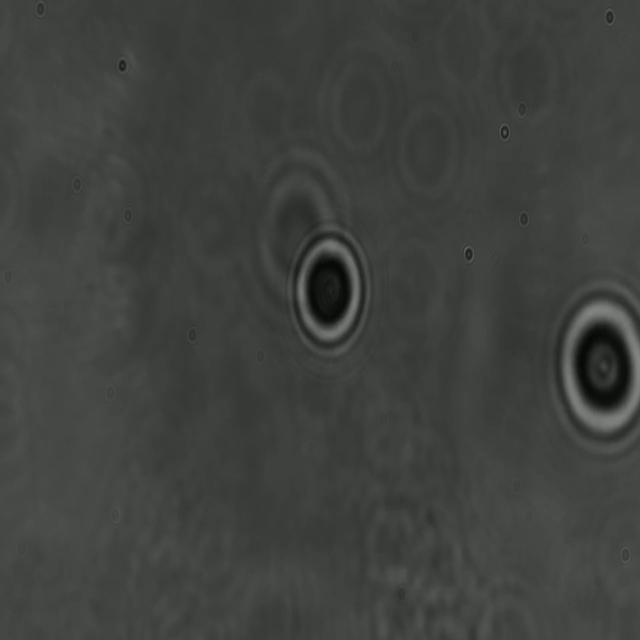DCELL: (284, 218, 376, 364)
